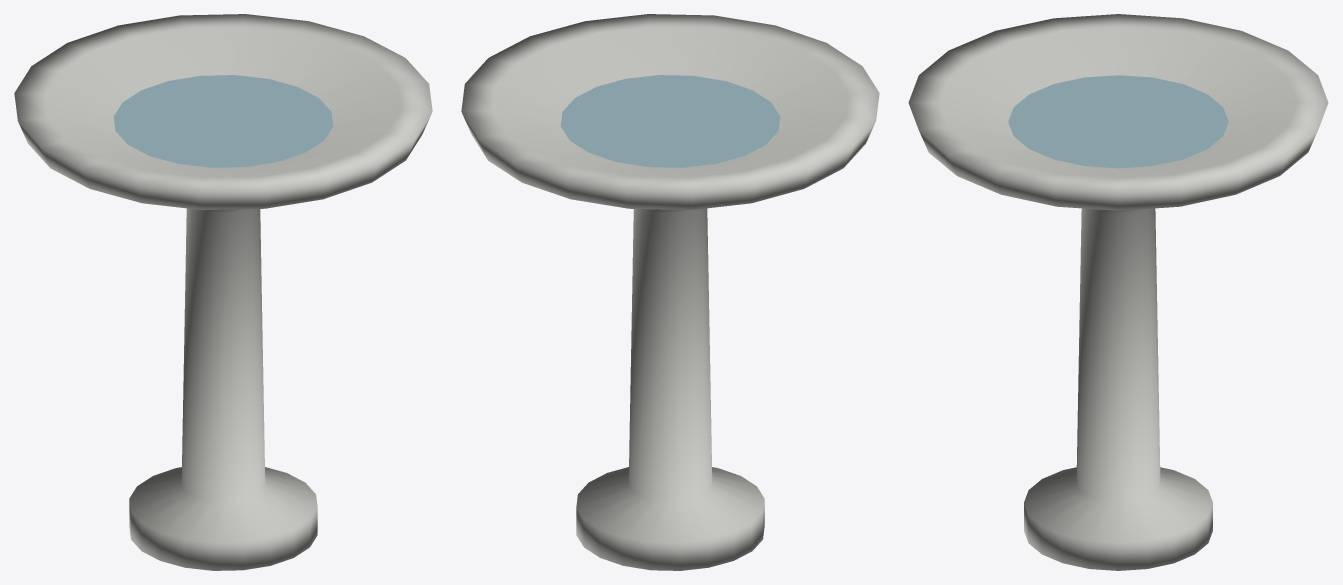
File: bird_bath.glb
The picture shows the model from 3 angles, left to right: view 1: azimuth 30°, elevation 25°; view 2: azimuth 150°, elevation 25°; view 3: azimuth 270°, elevation 25°; orthographic projection.
Visible parts, largest first — view 1: bird_bath; view 2: bird_bath; view 3: bird_bath.
Boxes of the visible parts, x1=… form: bird_bath: x1=14, y1=14, x2=432, y2=570; bird_bath: x1=461, y1=14, x2=879, y2=570; bird_bath: x1=908, y1=14, x2=1328, y2=570.
Bounding box in the file's own units: 0.8 × 0.9 × 0.8.
